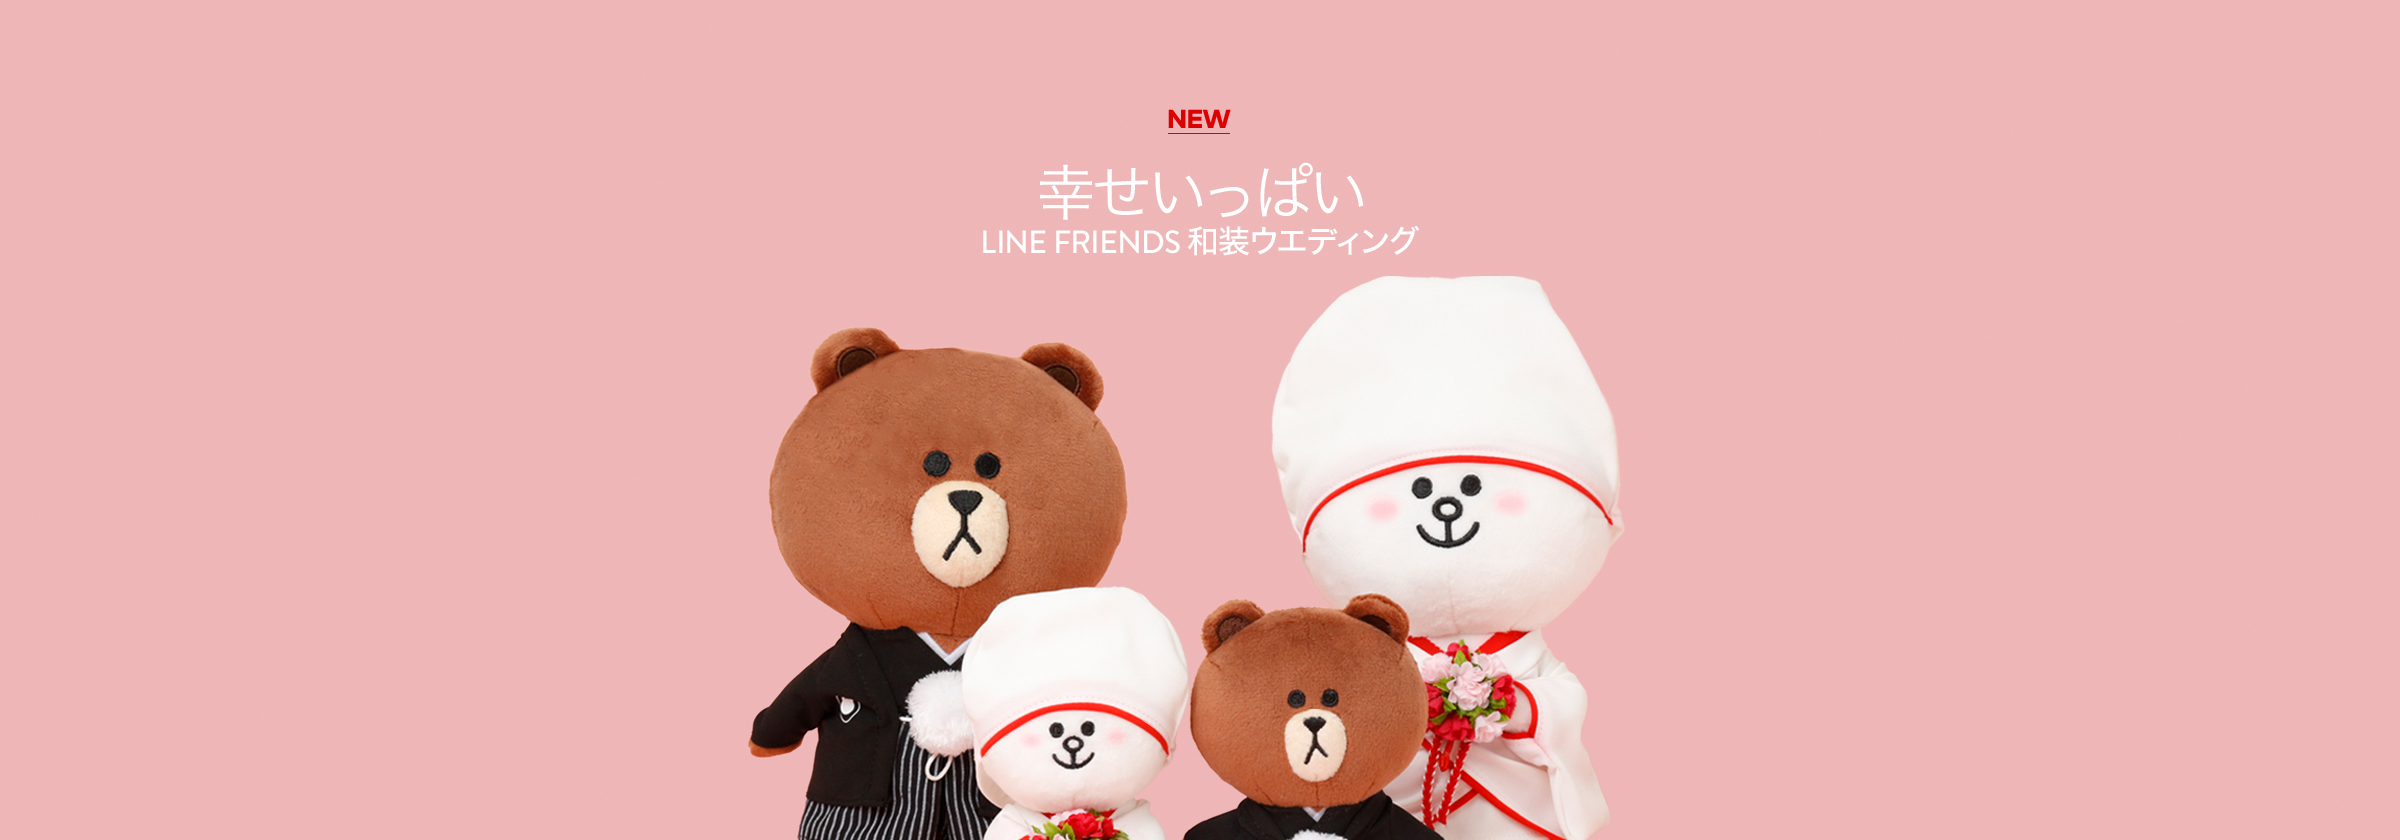line_brown: (732, 292, 1146, 656), (1185, 589, 1446, 825)
